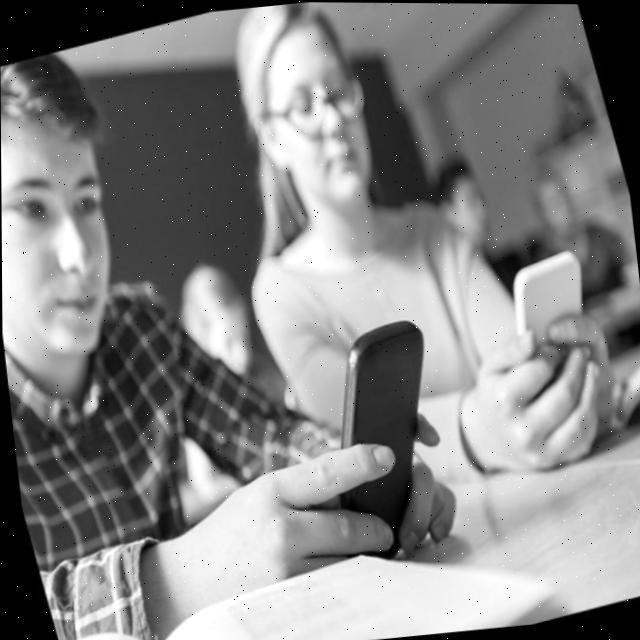phone: (292, 309, 479, 571), (497, 243, 600, 354)
